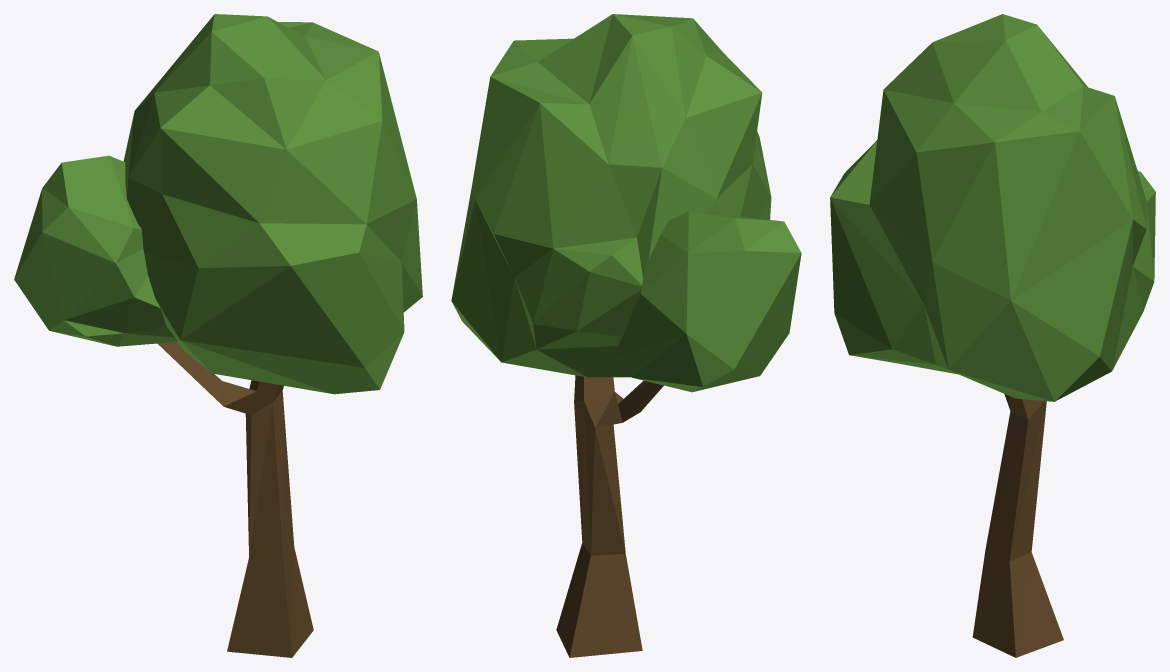
Rendered from Env_Tree06.fbx.
3 renders of one model, left to right at view 1: azimuth 30°, elevation 25°; view 2: azimuth 150°, elevation 25°; view 3: azimuth 270°, elevation 25°, orthographic. The views are drawn at different scales.
Visible parts, largest first — view 1: Env_Tree06; view 2: Env_Tree06; view 3: Env_Tree06.
Boxes of the visible parts, x1=… form: Env_Tree06: x1=14, y1=14, x2=422, y2=657; Env_Tree06: x1=451, y1=14, x2=801, y2=657; Env_Tree06: x1=830, y1=14, x2=1155, y2=657.
Bounding box in the file's own units: 222 × 385 × 191.
Materials: 1 (1 with a texture image).
